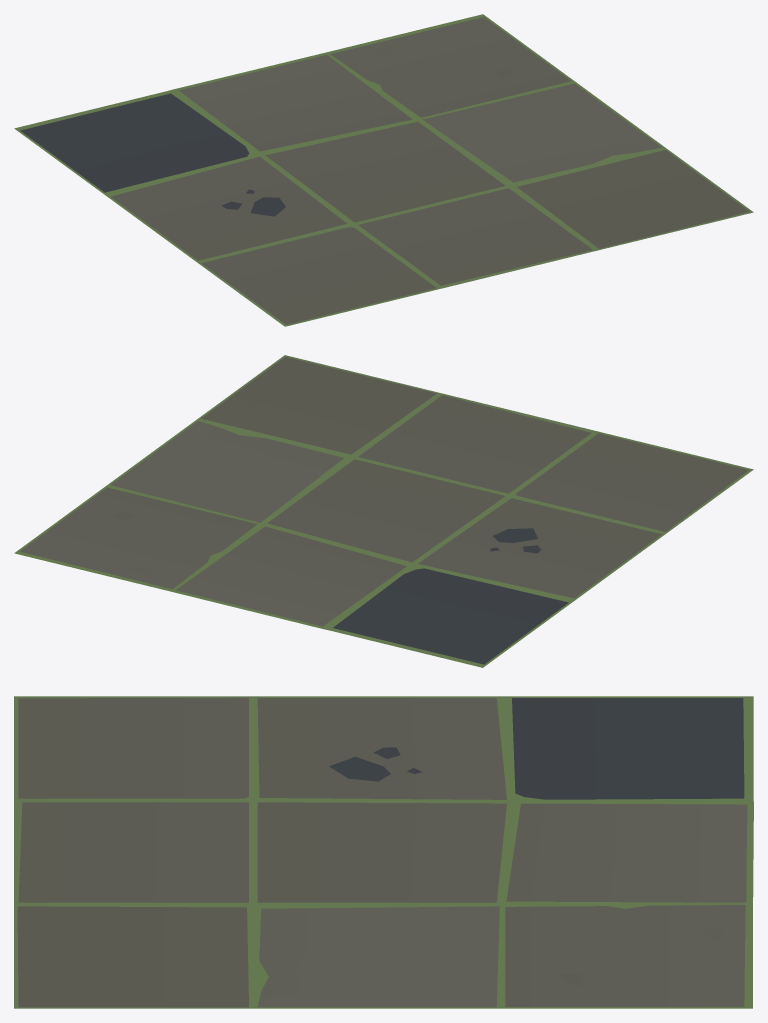
The model's file is Tile_04.fbx.
3 renders of one model, top to bottom at view 1: azimuth 30°, elevation 25°; view 2: azimuth 150°, elevation 25°; view 3: azimuth 270°, elevation 25°, orthographic. The views are drawn at different scales.
Visible parts, largest first — view 1: Tile_04; view 2: Tile_04; view 3: Tile_04.
Part boxes in pixels (<box>): Tile_04: <box>14,14,753,326</box>; Tile_04: <box>14,355,753,667</box>; Tile_04: <box>14,696,753,1008</box>.
Bounding box in the file's own units: 3 × 9.54e-07 × 3.01.
